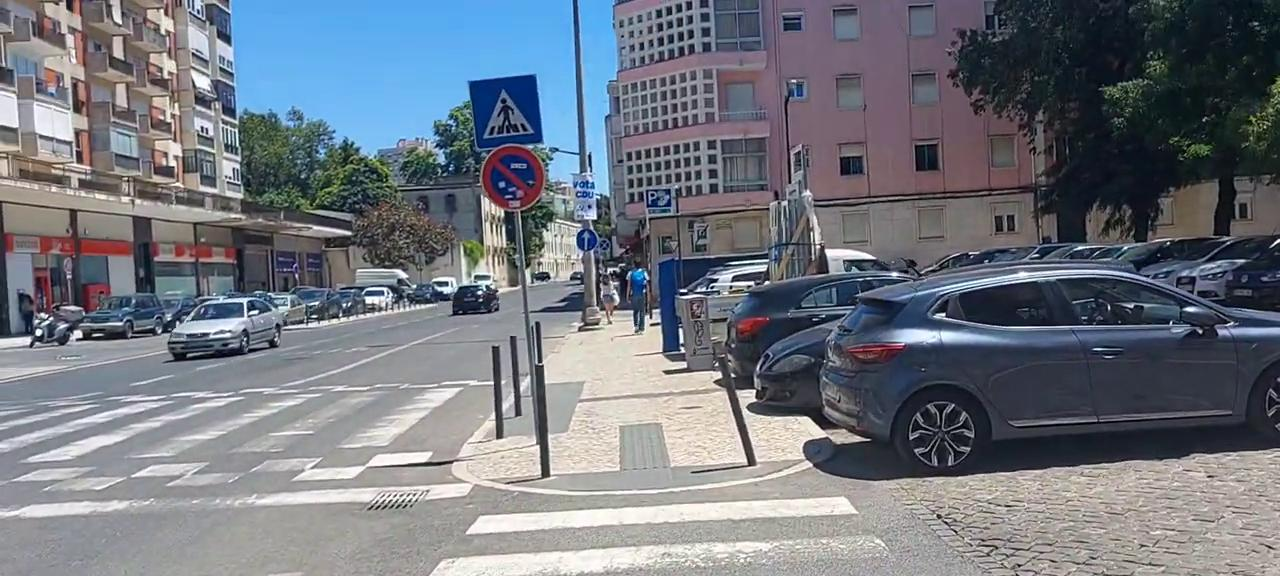estacionamento proibido: (476, 142, 548, 216)
passagem para peoes: (465, 71, 545, 148)
